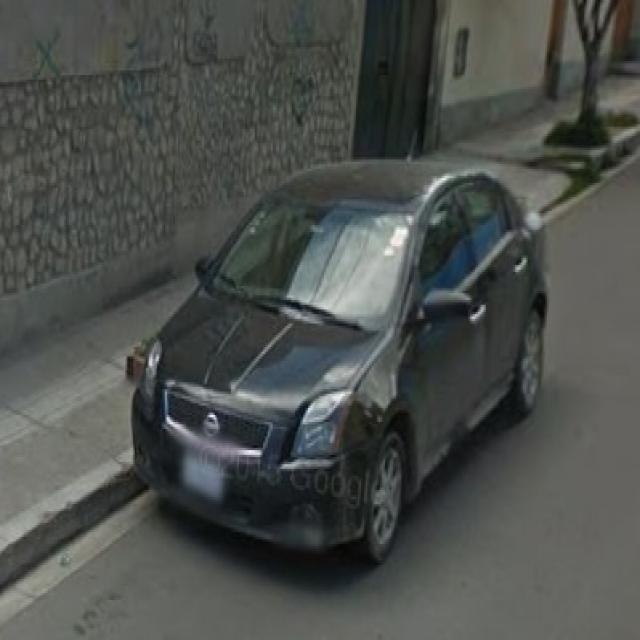Car: (136, 172, 558, 568)
